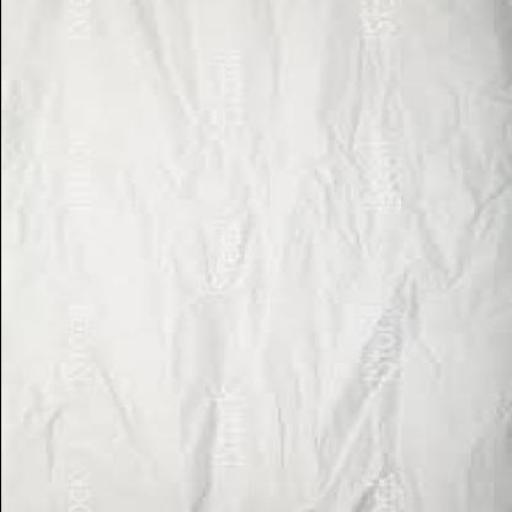paper: (1, 1, 510, 511)
